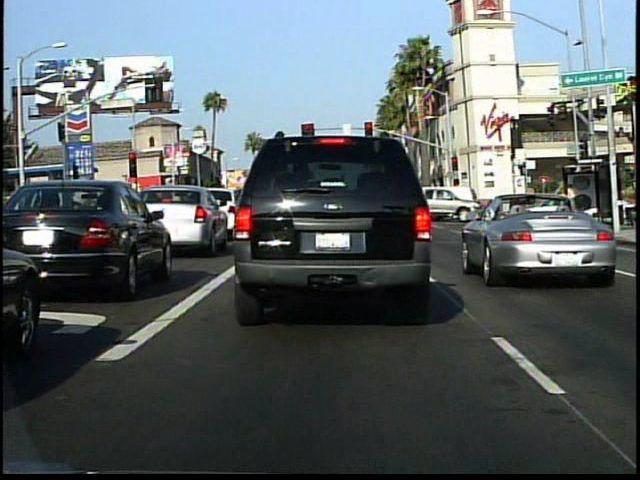person: (559, 179, 582, 232)
